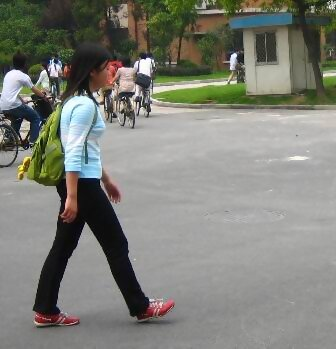person: (29, 38, 181, 325)
